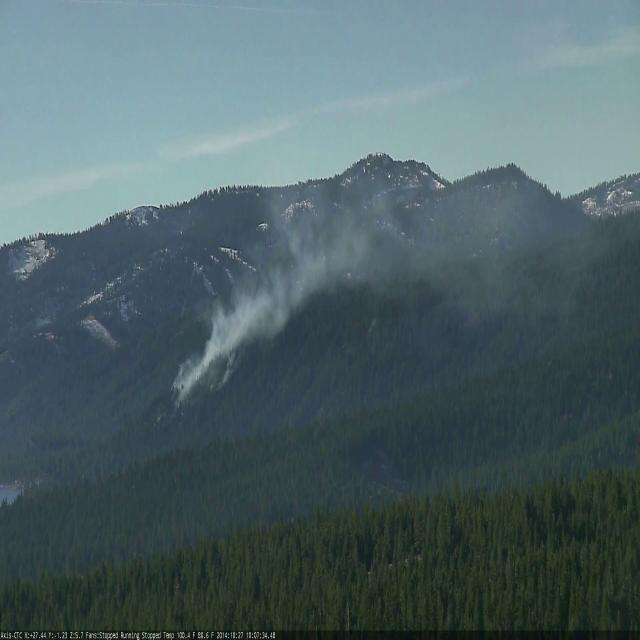smoke: (166, 118, 581, 426)
